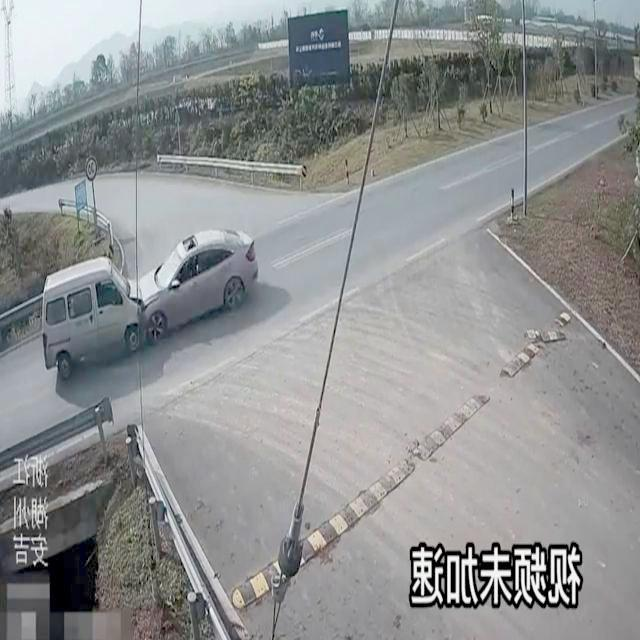accident: (39, 226, 261, 386)
